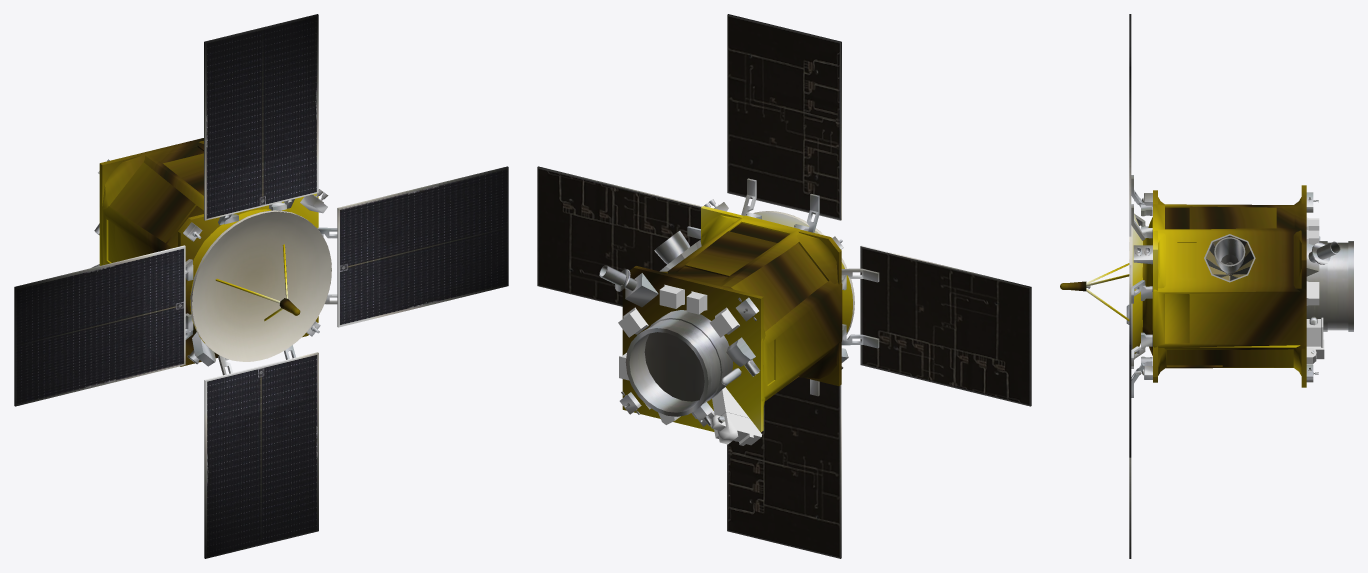
The model's file is near_lod1.glb.
3 renders of one model, left to right at view 1: azimuth 30°, elevation 25°; view 2: azimuth 150°, elevation 25°; view 3: azimuth 270°, elevation 25°, orthographic. The views are drawn at different scales.
Parts seen in each view (by area): view 1: near_lod1; view 2: near_lod1; view 3: near_lod1.
Part boxes in pixels (x1,y1,x2,y2): near_lod1: [14, 14, 508, 558]; near_lod1: [537, 14, 1031, 558]; near_lod1: [1060, 14, 1353, 558].
Size of the model in its own units: 5.28 by 5.28 by 2.86.
Materials: 4 (3 with a texture image).
